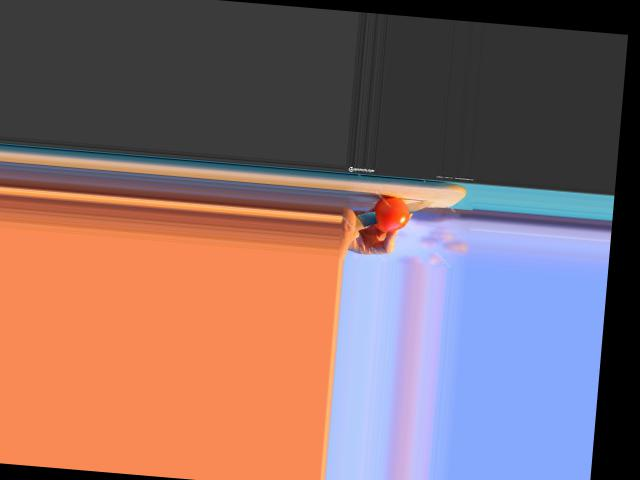tomato: (372, 194, 411, 232)
